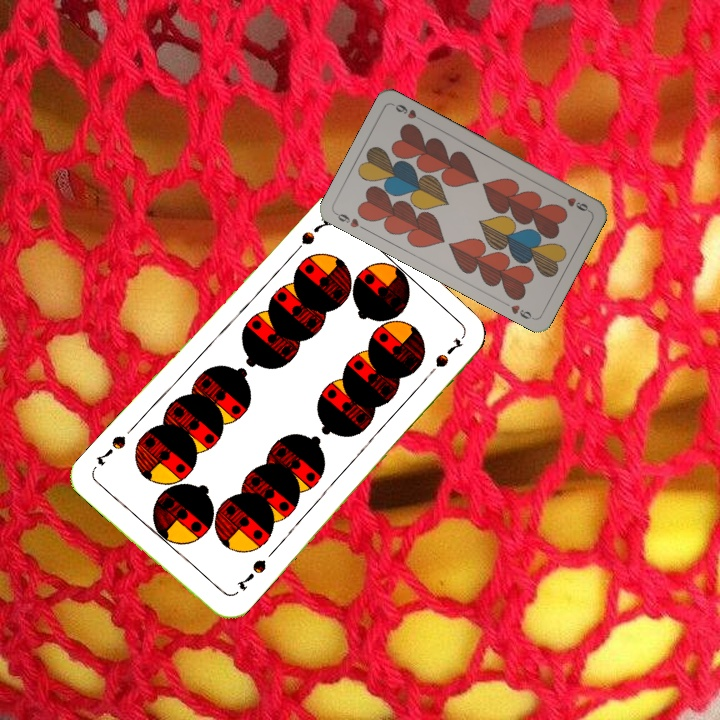H9: (555, 190, 593, 215), (332, 209, 369, 233)
S7: (286, 213, 334, 260), (233, 555, 269, 594)
